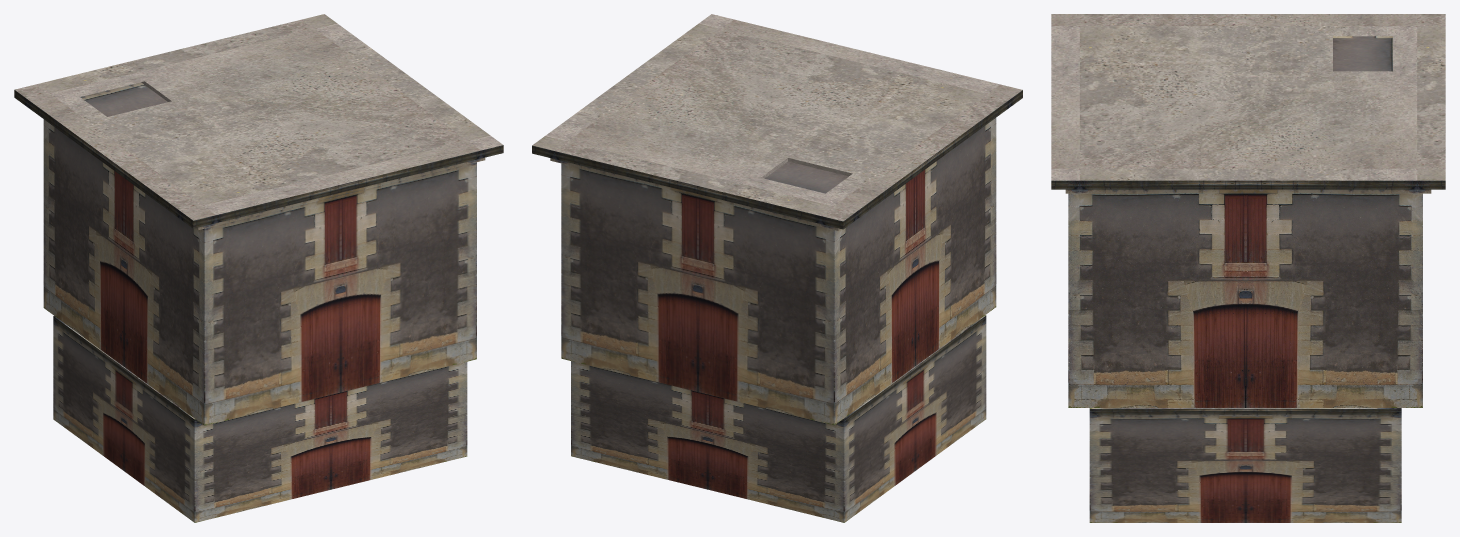
File: BagBuilding17_70.fbx
The picture shows the model from 3 angles, left to right: view 1: azimuth 30°, elevation 25°; view 2: azimuth 150°, elevation 25°; view 3: azimuth 270°, elevation 25°; orthographic projection. The views are drawn at different scales.
Visible parts, largest first — view 1: Box70, roof70, boxb70, main70; view 2: Box70, roof70, boxb70, main70; view 3: Box70, roof70, boxb70, main70.
Boxes of the visible parts, x1=… form: Box70: x1=43, y1=82, x2=476, y2=425; roof70: x1=15, y1=14, x2=502, y2=220; boxb70: x1=53, y1=316, x2=467, y2=522; main70: x1=14, y1=90, x2=503, y2=229; Box70: x1=561, y1=118, x2=996, y2=425; roof70: x1=532, y1=14, x2=1022, y2=221; boxb70: x1=571, y1=315, x2=986, y2=522; main70: x1=532, y1=90, x2=1022, y2=230; Box70: x1=1068, y1=36, x2=1422, y2=407; roof70: x1=1051, y1=14, x2=1445, y2=180; boxb70: x1=1089, y1=408, x2=1401, y2=522; main70: x1=1051, y1=180, x2=1445, y2=193.
Bounding box in the file's own units: 17.69 × 17.42 × 17.69.
